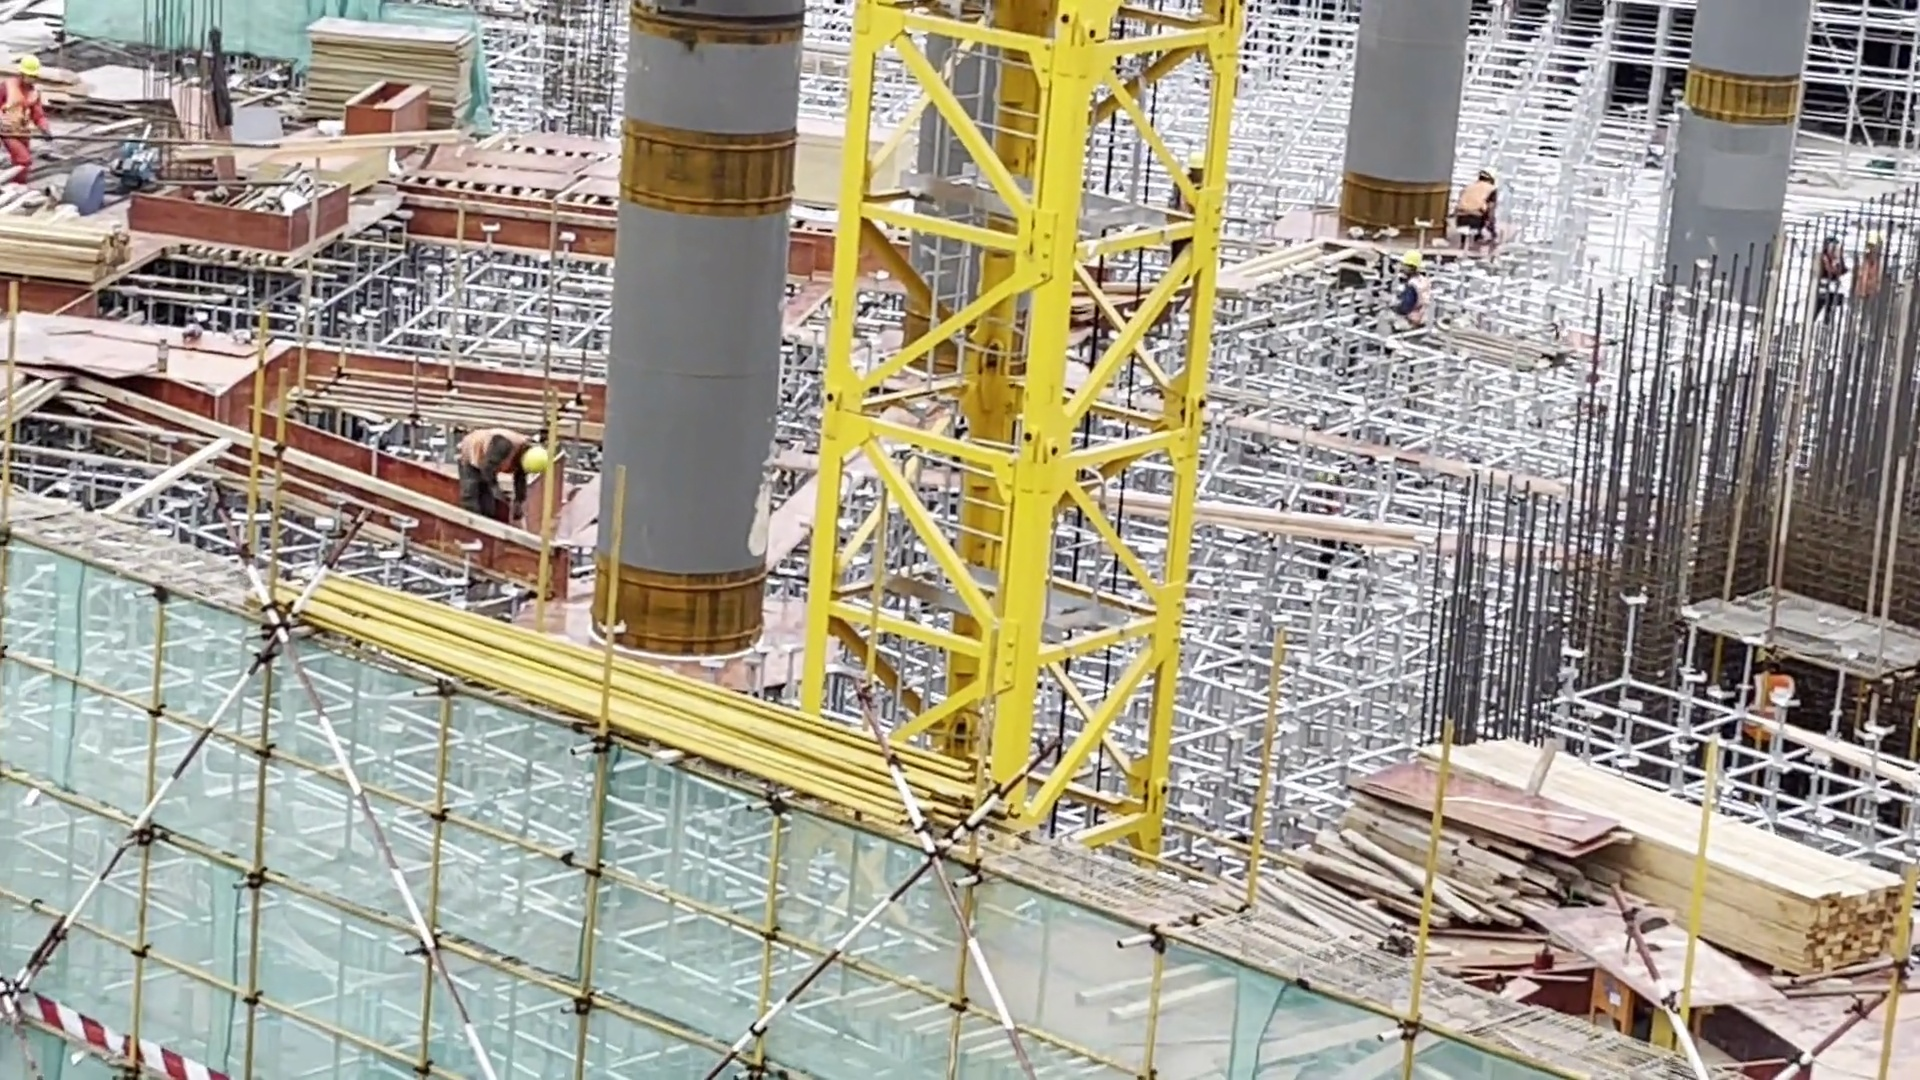helmet: (515, 437, 561, 488), (1174, 149, 1220, 177), (1401, 247, 1436, 278), (11, 55, 45, 79), (1474, 161, 1493, 181)
person: (448, 407, 556, 533), (1, 51, 63, 179), (1441, 154, 1514, 245), (1161, 141, 1207, 248), (1389, 248, 1433, 332)
vest: (463, 428, 510, 480), (1393, 272, 1430, 318), (6, 82, 37, 137), (1460, 178, 1493, 213)
